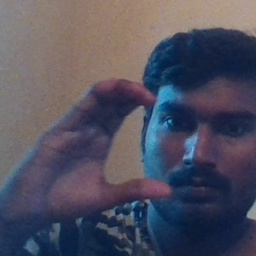C: (71, 78, 187, 205)
